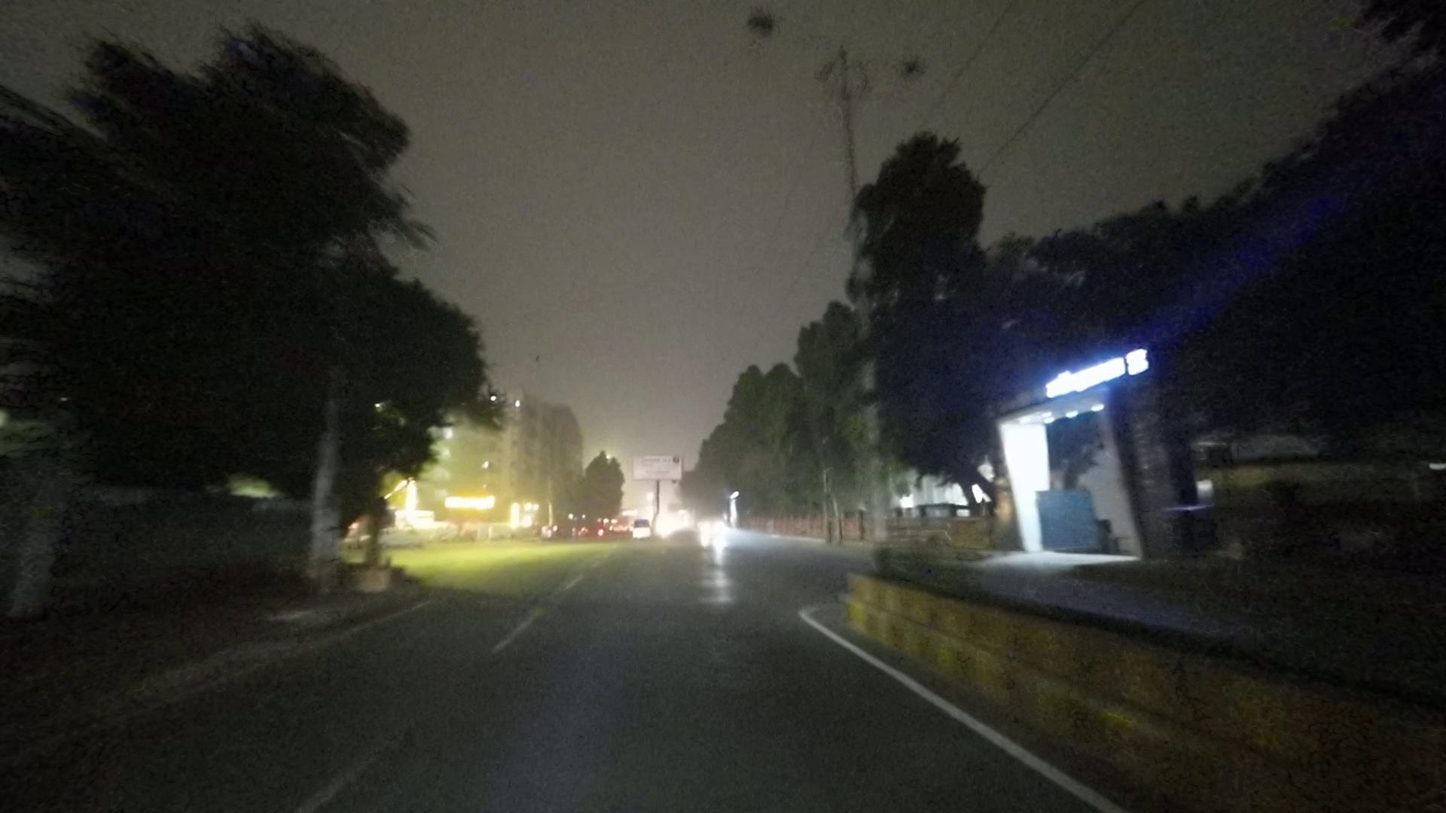streetlight: (745, 7, 838, 53)
